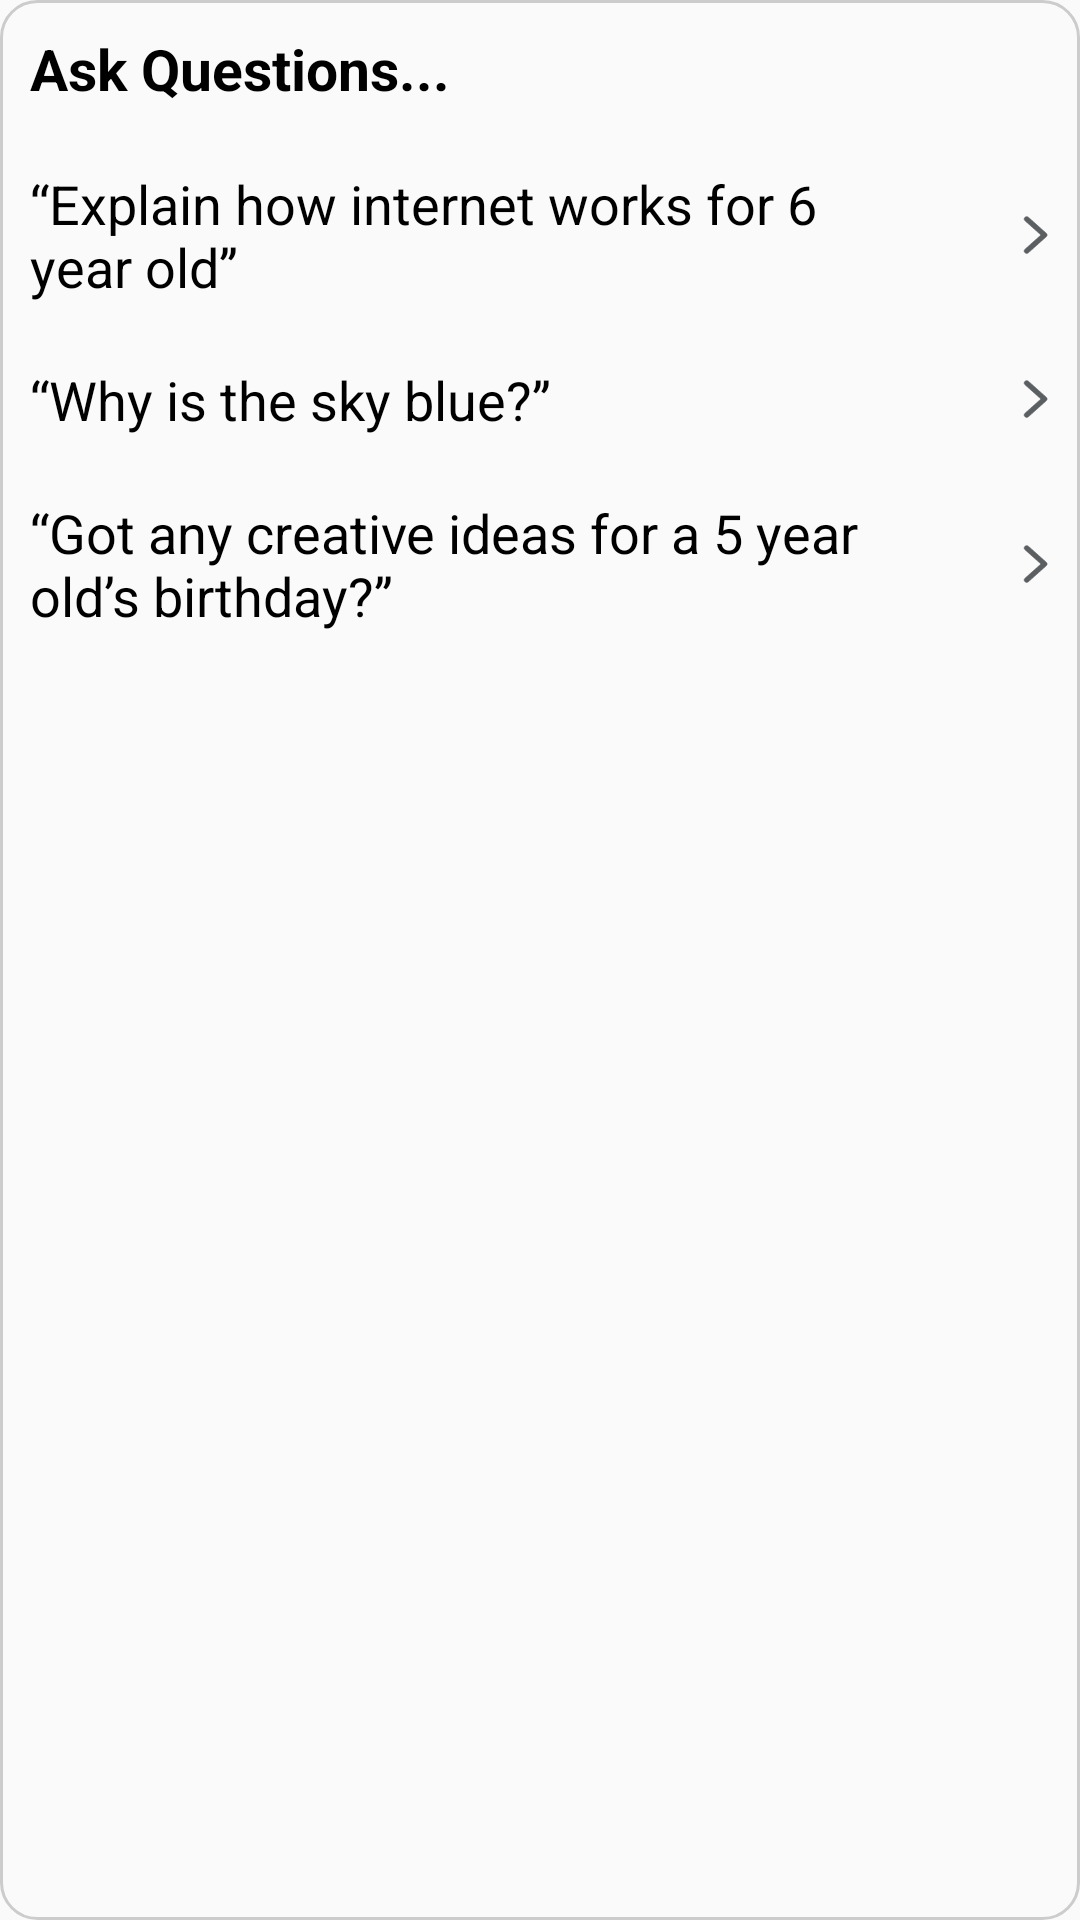

Icon click points for this 1080px×1920px phone screenshot, format (x=x, y=y):
arrow right: (x=1035, y=235), (x=1035, y=399), (x=1035, y=564)
